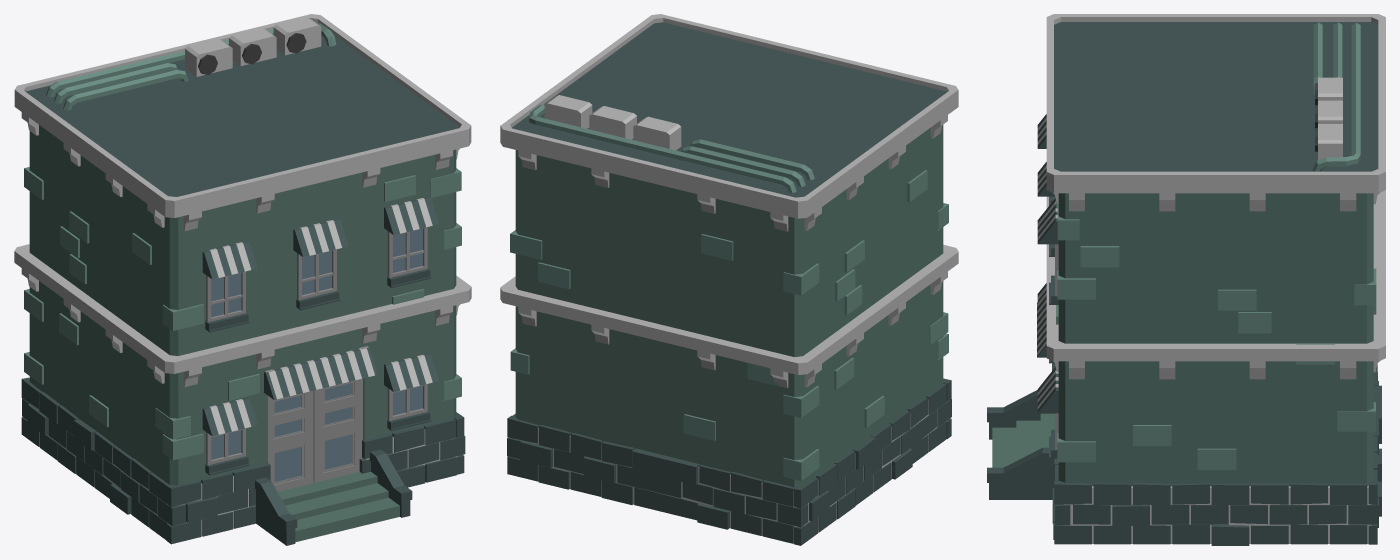
Rendered from 2Story_Double_Mat.gltf.
3 views of the same model, side by side, from view 1: azimuth 30°, elevation 25°; view 2: azimuth 150°, elevation 25°; view 3: azimuth 270°, elevation 25° (orthographic). The views are drawn at different scales.
Parts seen in each view (by area): view 1: o 2Story_Double_Mat_Cube.036; view 2: o 2Story_Double_Mat_Cube.036; view 3: o 2Story_Double_Mat_Cube.036.
Boxes of the visible parts, box(x1,y1,x2,y2) form: o 2Story_Double_Mat_Cube.036: box(14, 14, 471, 545); o 2Story_Double_Mat_Cube.036: box(500, 14, 958, 545); o 2Story_Double_Mat_Cube.036: box(987, 14, 1385, 545).
Size of the model in its own units: 2.42 by 2.75 by 2.53.
